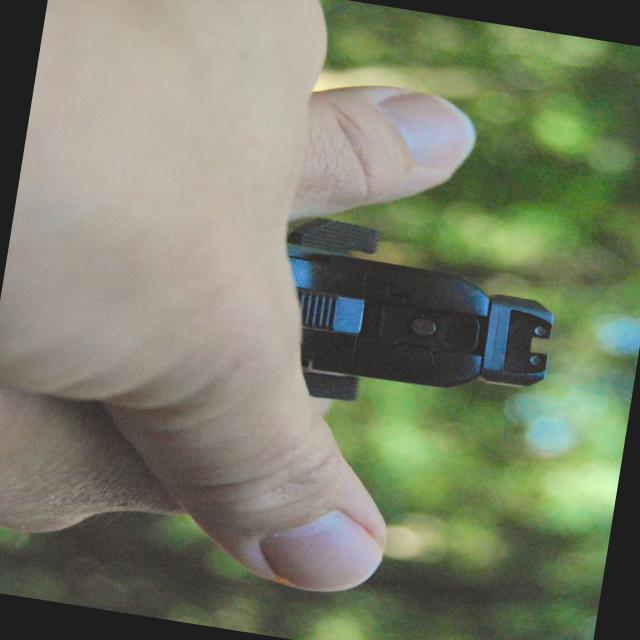handgun: (243, 192, 568, 444)
